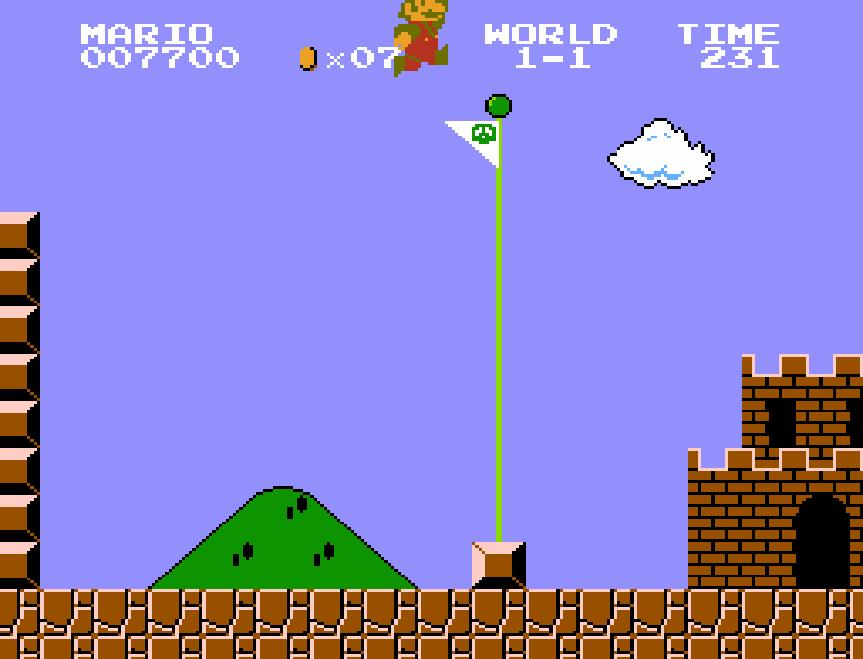big_mario: (392, 0, 450, 77)
